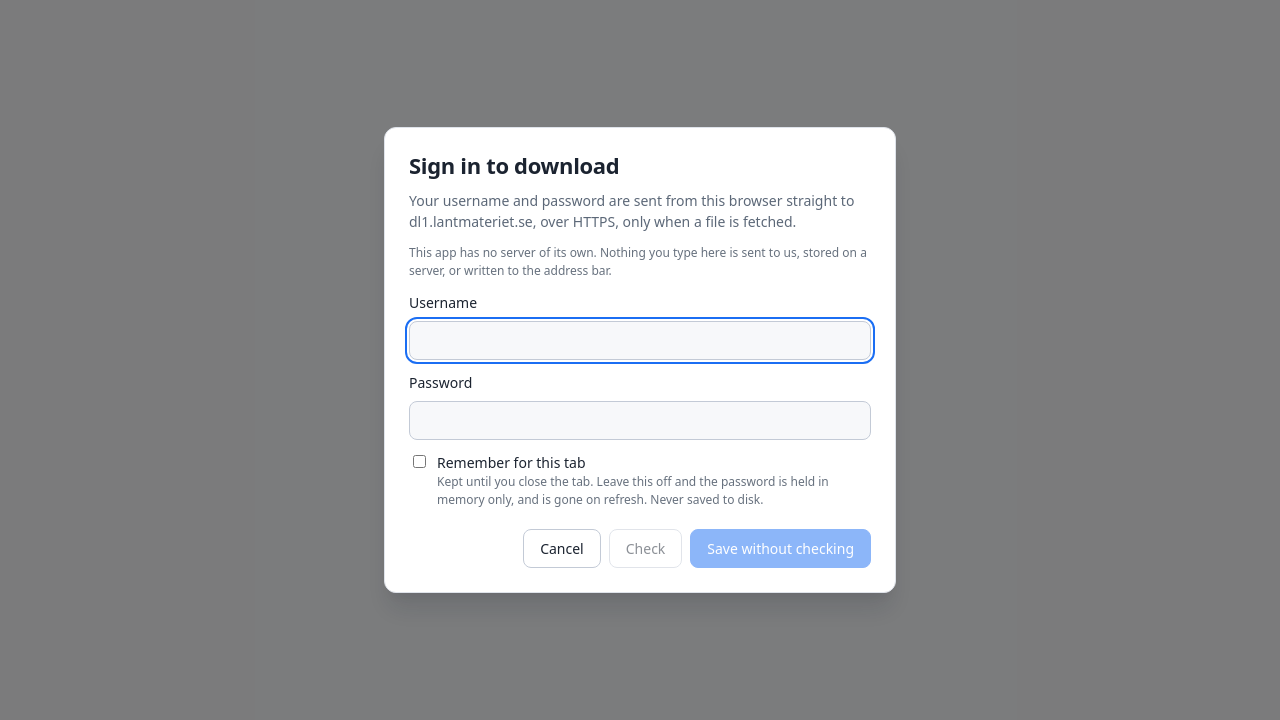
it: verification › checks against the selected asset with a HEAD
Type "anna" into the field labelled "Username" at (640, 341), box [409,321,871,360]
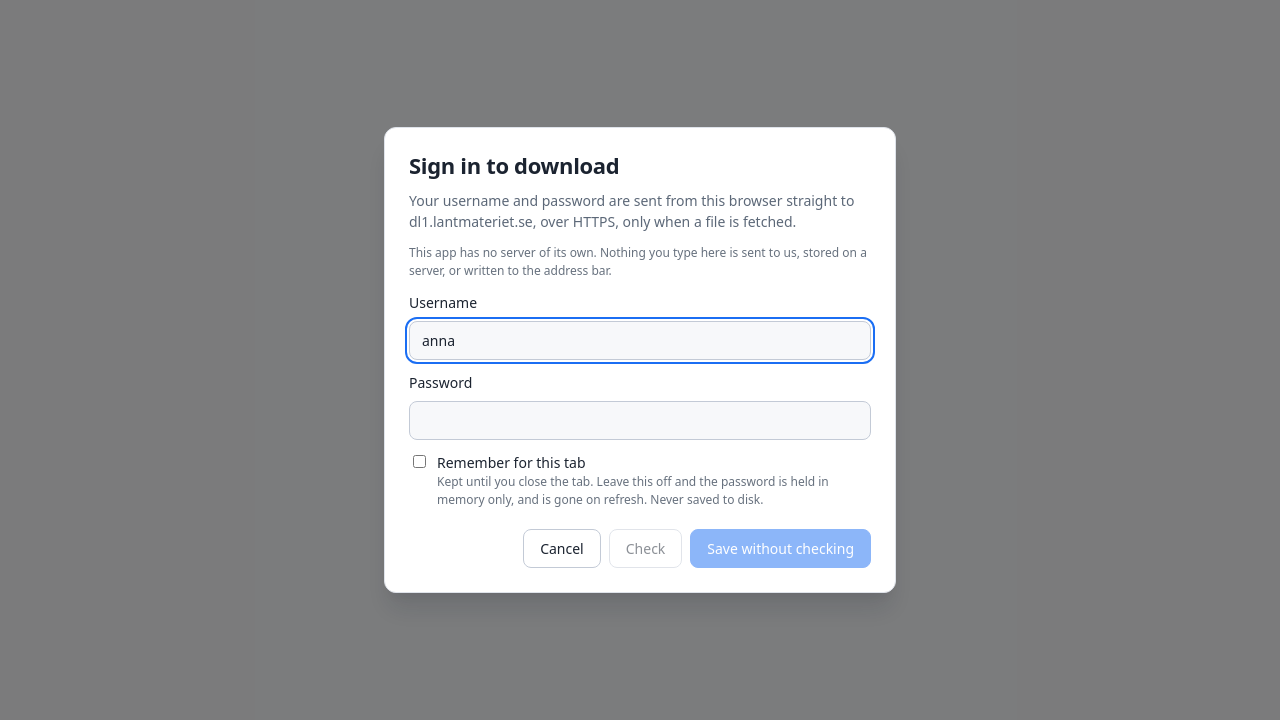
Type "hemligt" into the password field labelled "Password" at (640, 421), box [409,401,871,440]
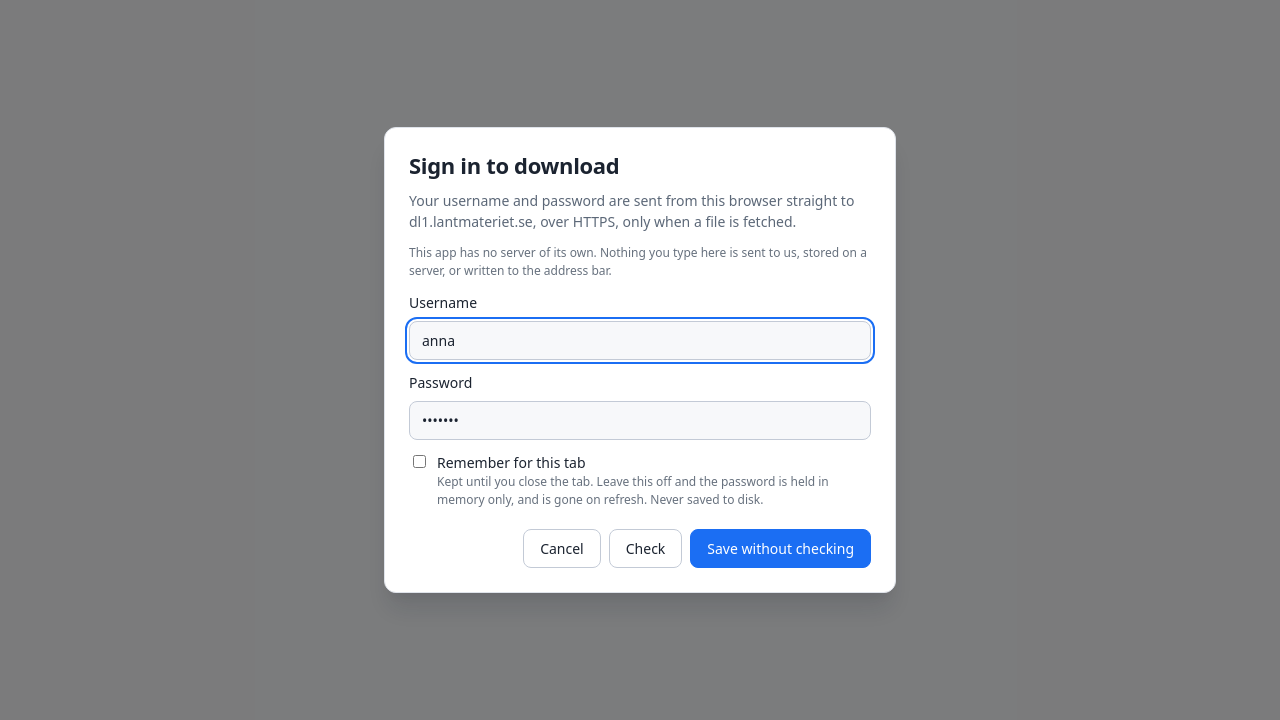
Submit the form, box [385,128,895,592]
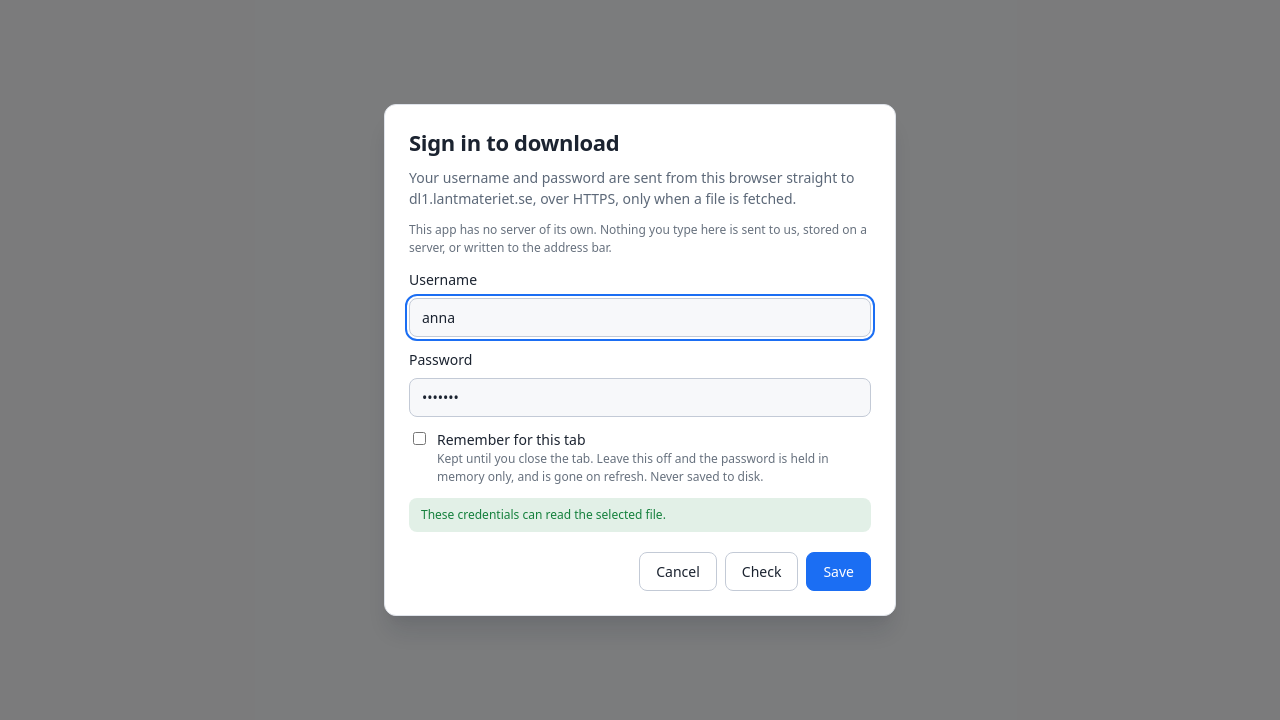
Result: the text "These credentials can read the selected file." is shown at [409,498,871,532]
